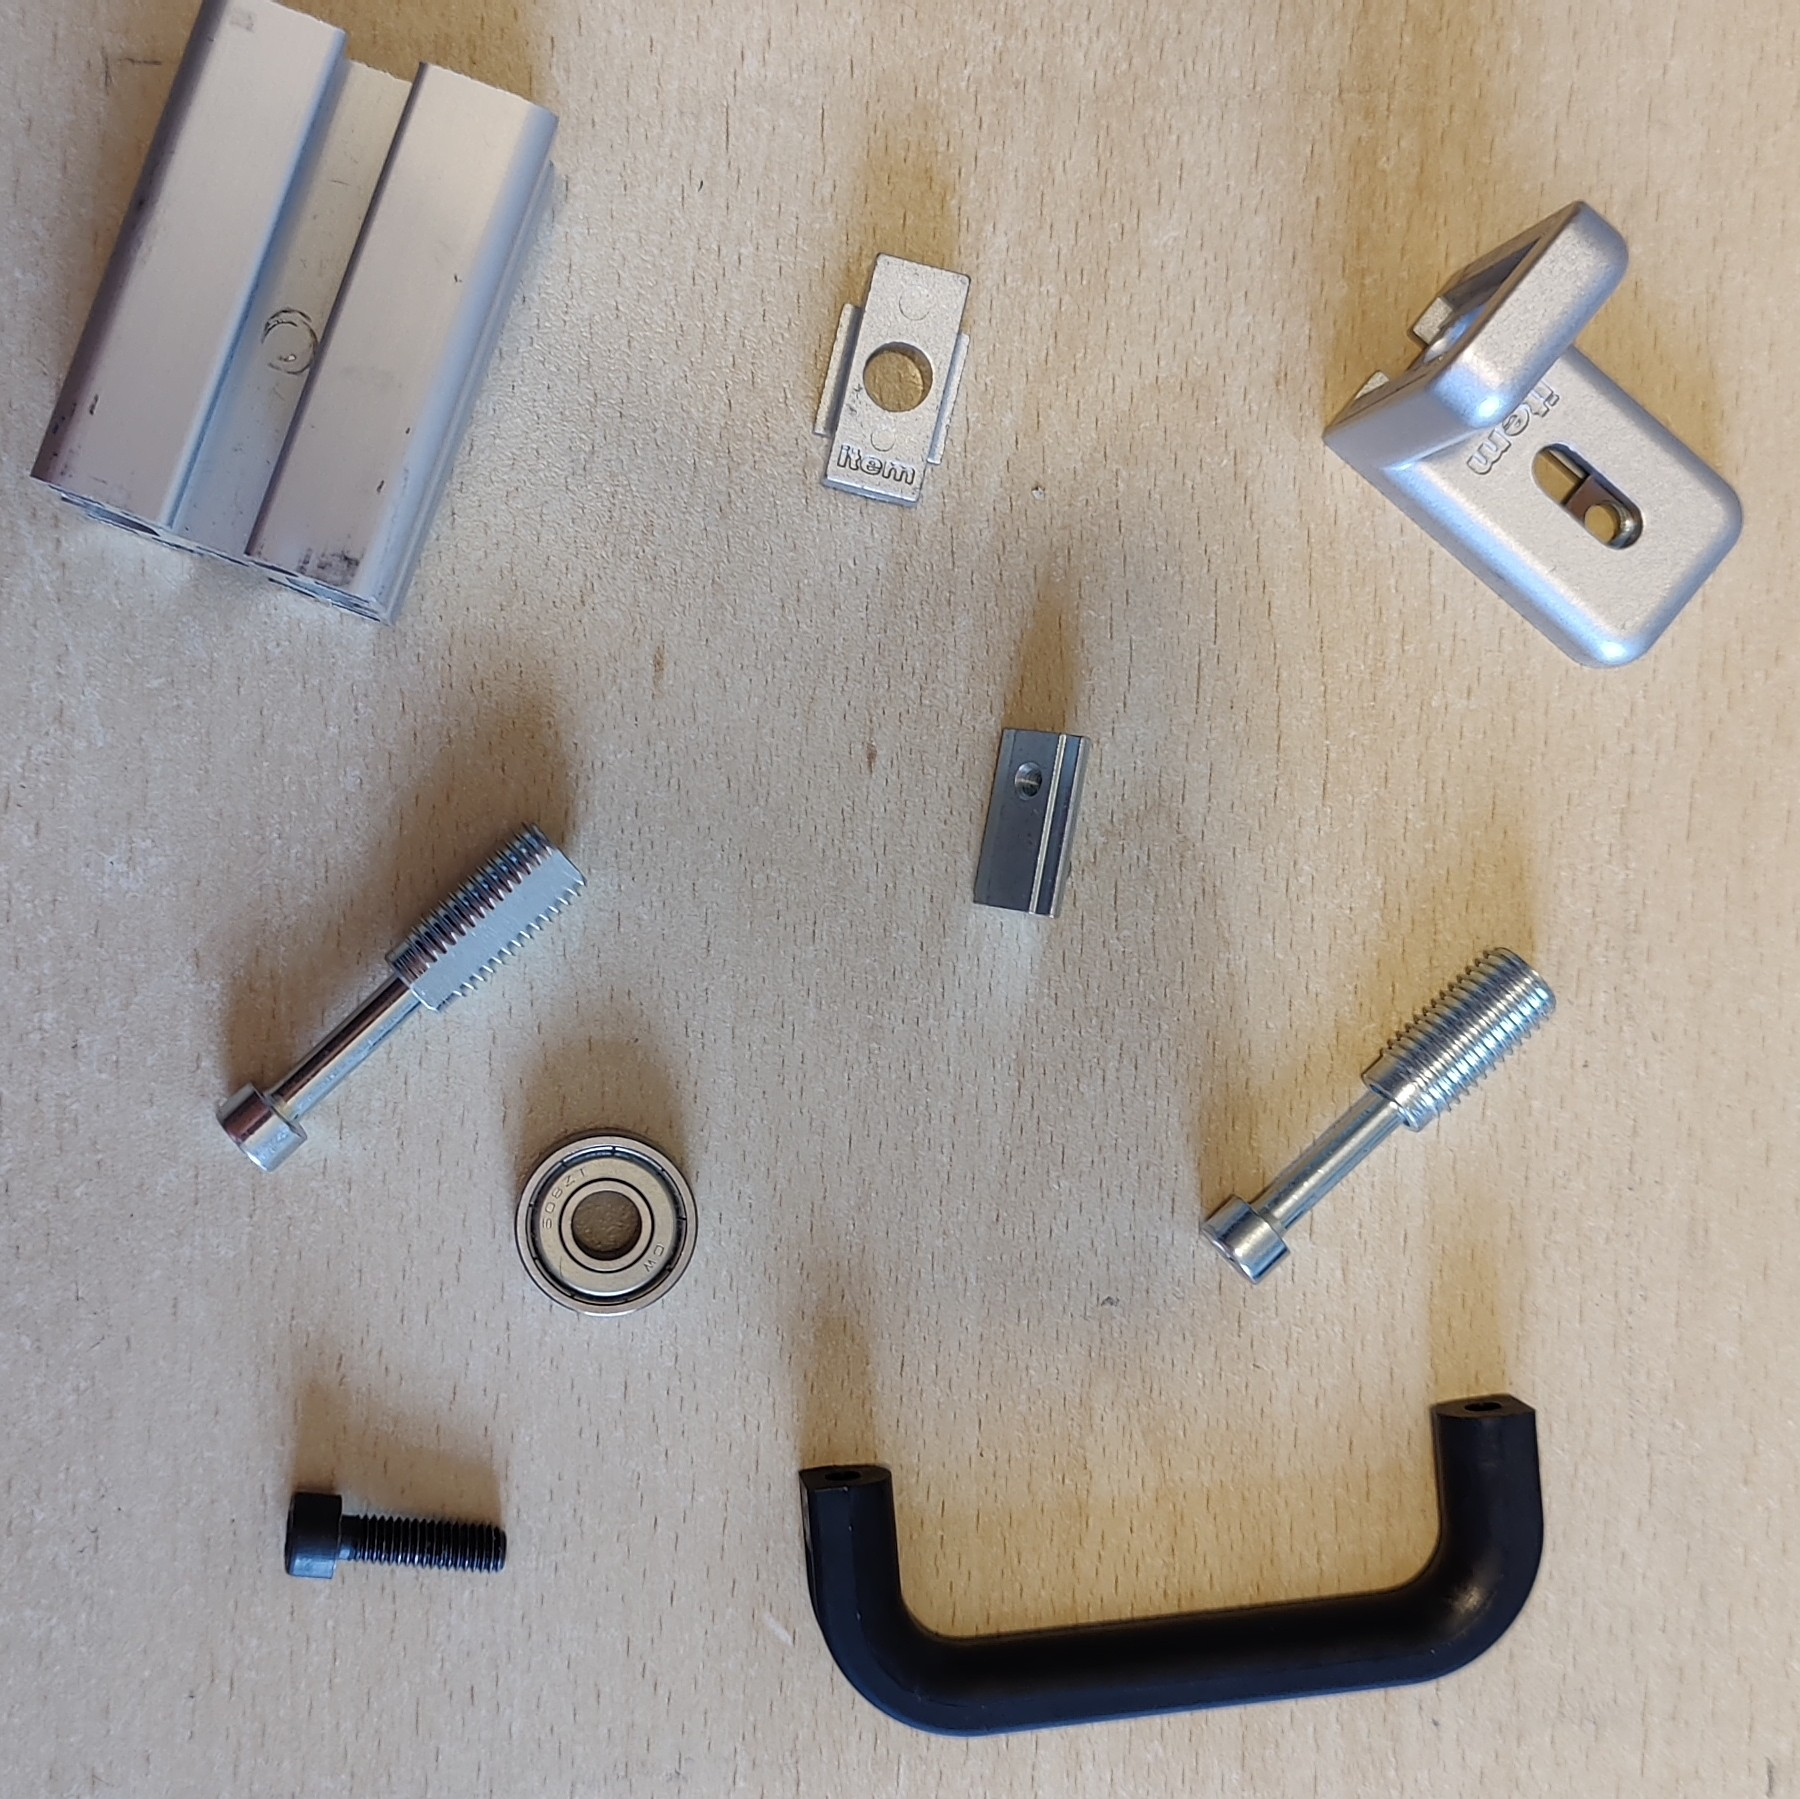Aluminium Extension: (30, 2, 562, 633)
Ball Bearing: (512, 1120, 700, 1316)
Multiwinkel: (1319, 199, 1746, 671)
Pull Handle: (797, 1395, 1548, 1740)
Shoulder Socket Head Cap Screw: (216, 817, 590, 1176), (1197, 941, 1560, 1287)
Socket Head Cap Screw: (282, 1479, 511, 1583)
T Nut Square: (810, 249, 975, 512)
T Spring Nut: (972, 723, 1094, 923)
